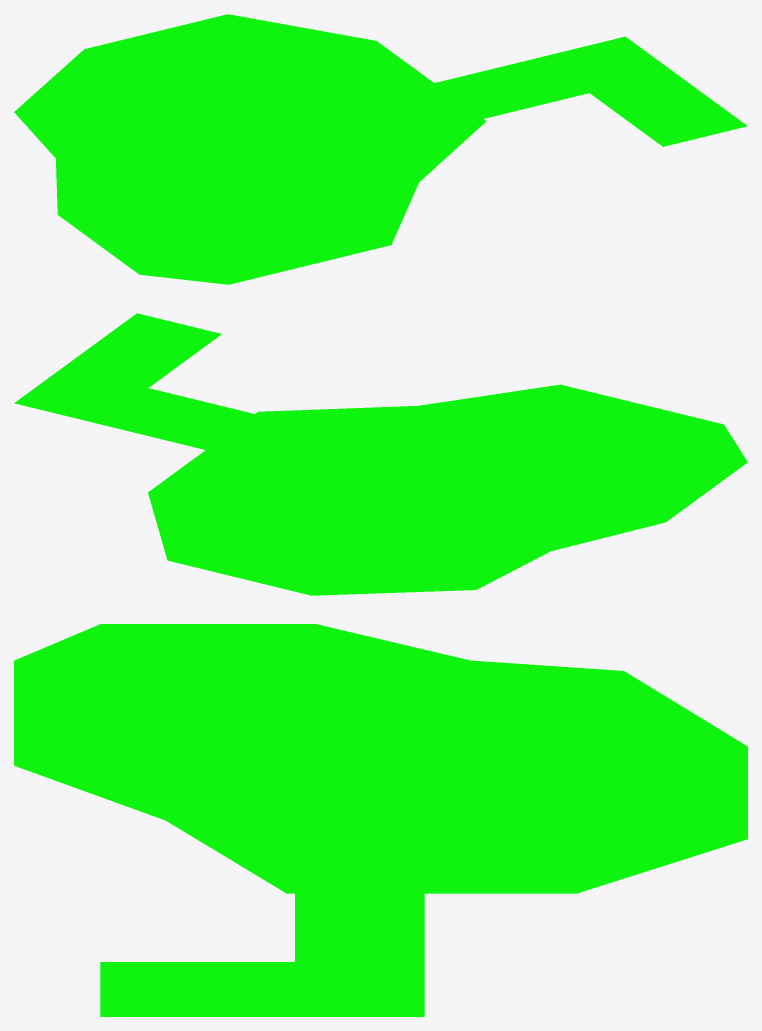
File: s01b_na1-floor.glb
3 renders of one model, top to bottom at view 1: azimuth 30°, elevation 25°; view 2: azimuth 150°, elevation 25°; view 3: azimuth 270°, elevation 25°, orthographic. The views are drawn at different scales.
Parts seen in each view (by area): view 1: collision_floor-colonly; view 2: collision_floor-colonly; view 3: collision_floor-colonly.
Boxes of the visible parts, x1,y1,x2,y2 form: collision_floor-colonly: [14, 14, 747, 284]; collision_floor-colonly: [14, 313, 747, 595]; collision_floor-colonly: [14, 624, 747, 1016].
Size of the model in its own units: 43 by 0 by 33.96.
